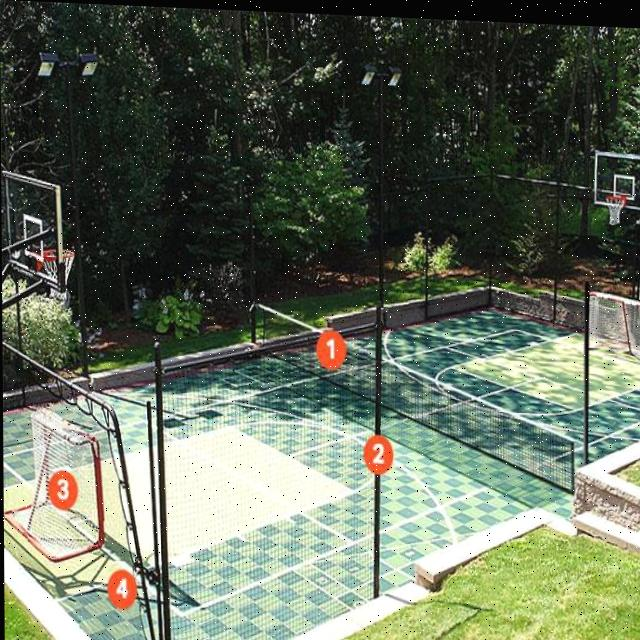hoop: (40, 249, 75, 301), (606, 194, 626, 226)
